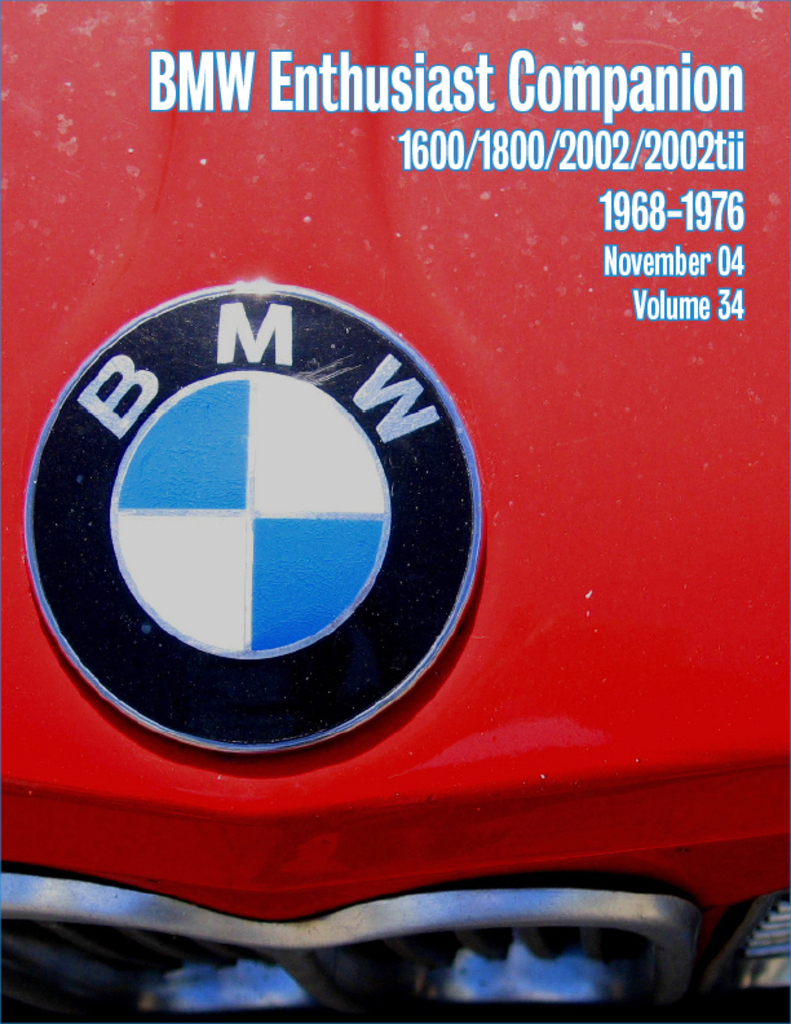cars: (0, 81, 774, 958)
